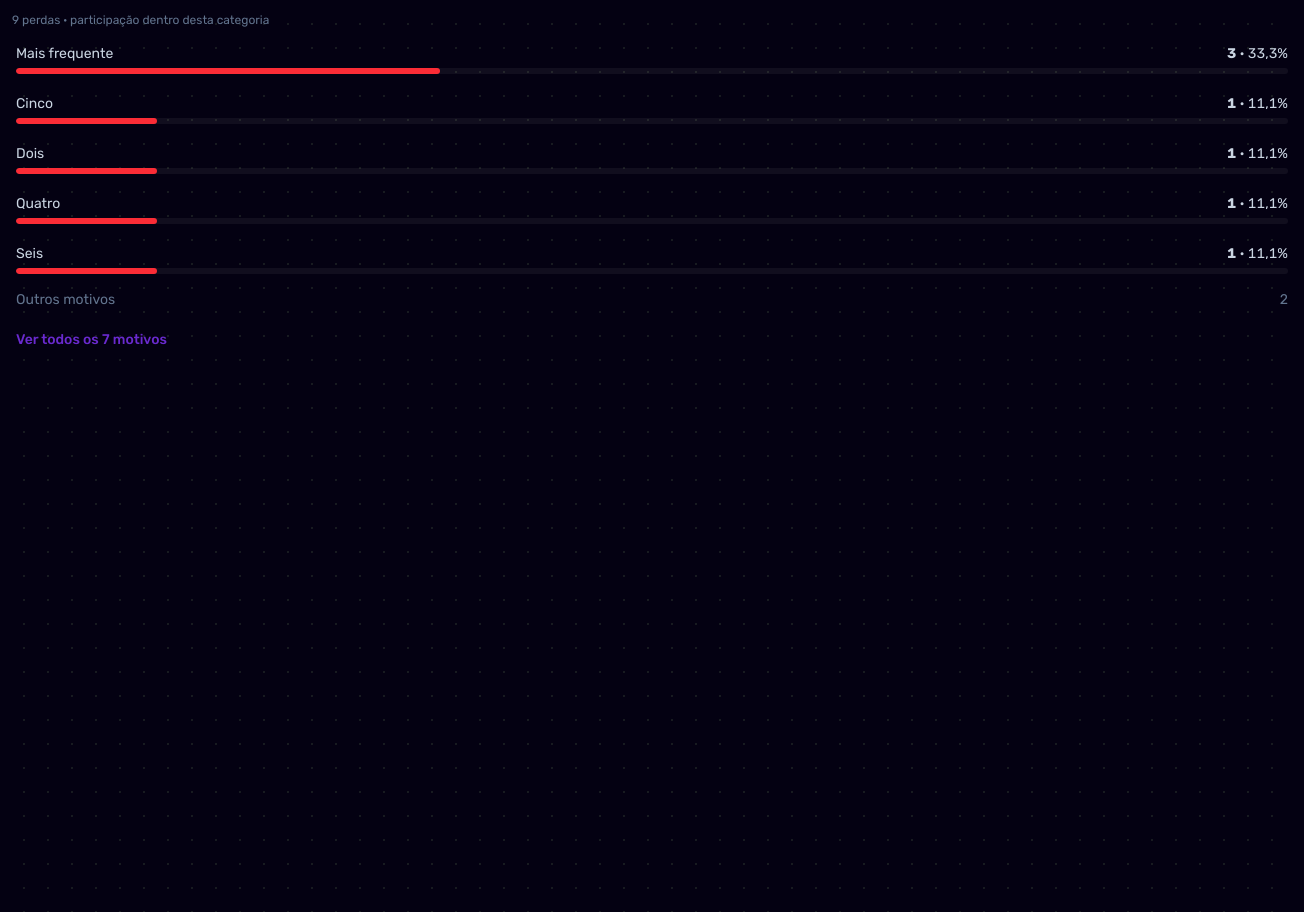
Test: mostra os cinco motivos mais frequentes, expande o restante e permite recolher
This screenshot has width=1304, height=912.
expect the text "9 perdas · participação dentro desta categoria" is shown: met, box x1=12 y1=13 x2=269 y2=27
expect the number of buttons "Mais frequente 3 · 33,3%" is 5: met, box x1=12 y1=40 x2=1292 y2=78; x1=12 y1=90 x2=1292 y2=128; x1=12 y1=140 x2=1292 y2=178; x1=12 y1=190 x2=1292 y2=228; x1=12 y1=240 x2=1292 y2=278
Click the button "Ver todos os 7 motivos". click: click(91, 340)
box: x1=12 y1=322 x2=171 y2=358
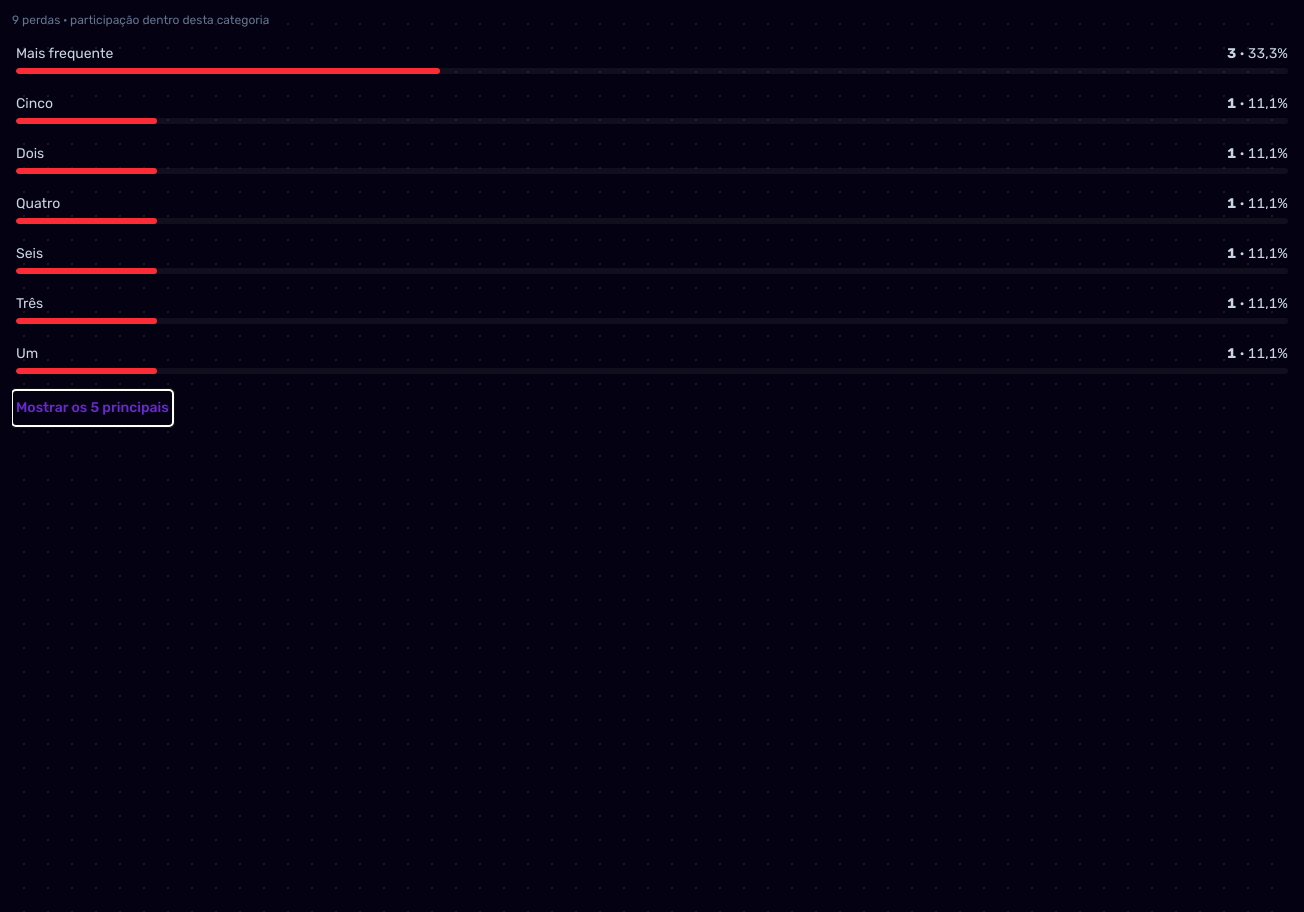
expect the number of buttons "Mais frequente 3 · 33,3%" is 7: met
expect the text "Outros motivos" is gone: met
expect the button "Mostrar os 5 principais" is expanded: met
Click the button "Mostrar os 5 principais". click: click(92, 408)
box: x1=12 y1=390 x2=173 y2=426
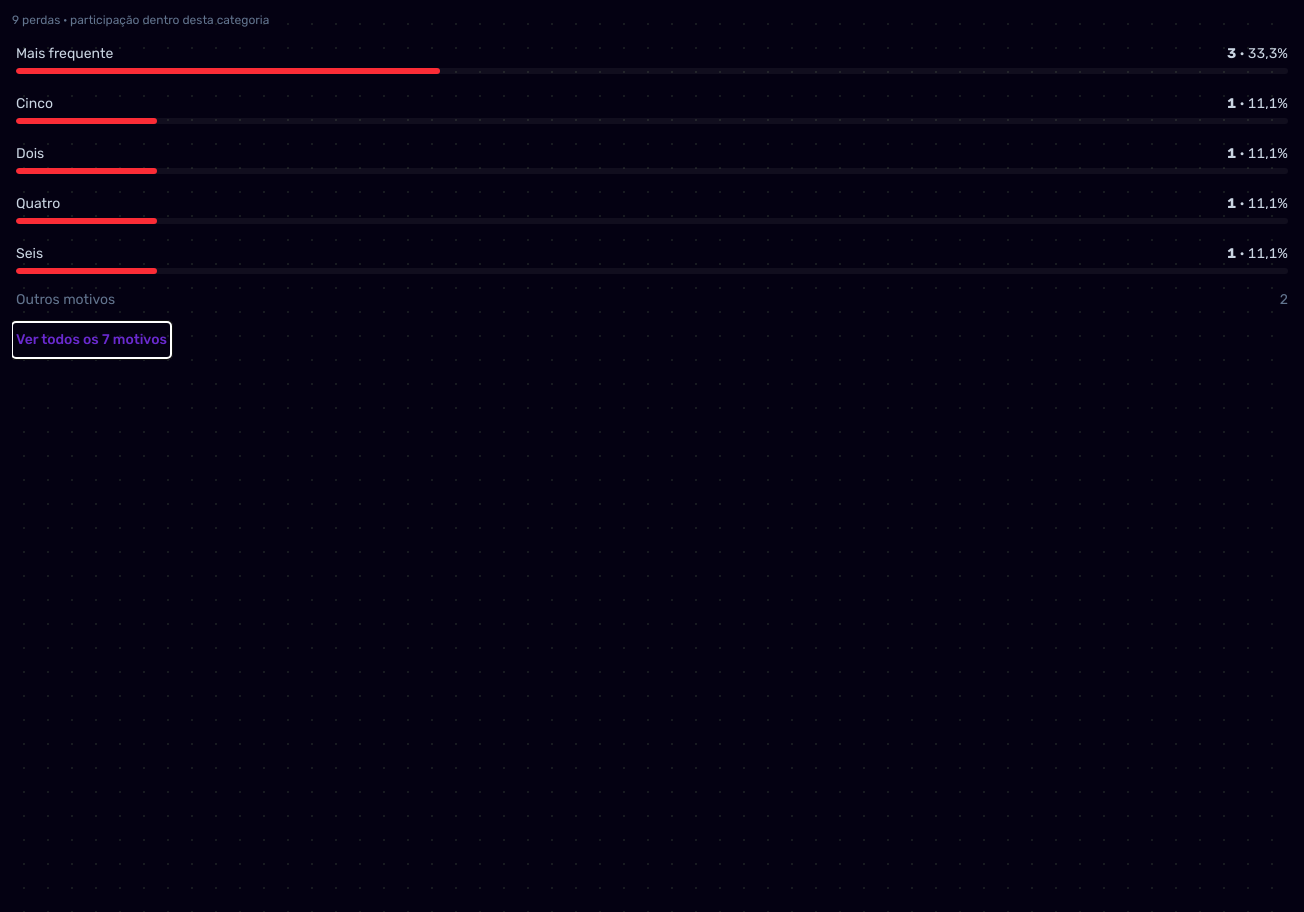
expect the number of buttons "Mais frequente 3 · 33,3%" is 5: met, box x1=12 y1=40 x2=1292 y2=78; x1=12 y1=90 x2=1292 y2=128; x1=12 y1=140 x2=1292 y2=178; x1=12 y1=190 x2=1292 y2=228; x1=12 y1=240 x2=1292 y2=278
